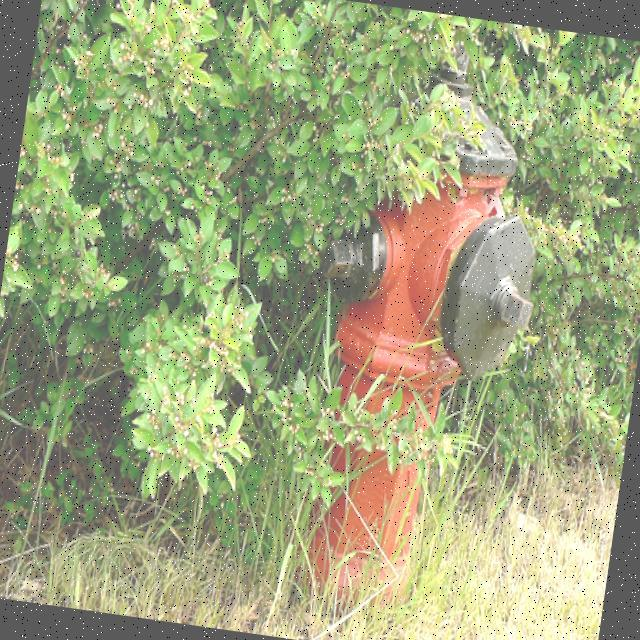fire_hydrant: (268, 70, 570, 640)
